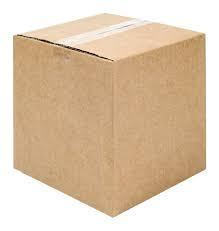box: (13, 14, 204, 217)
